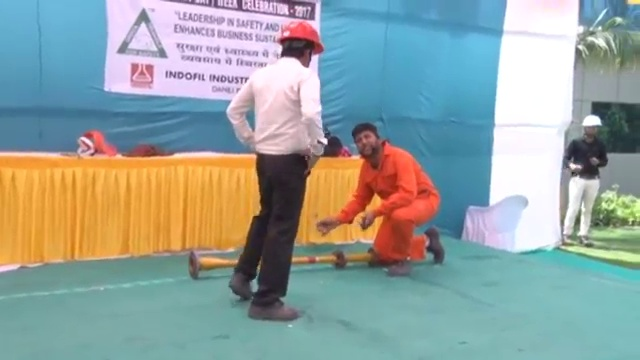helmet: (276, 19, 327, 55), (580, 114, 602, 127)
helmet_off: (350, 121, 381, 158)
helmet_on: (273, 17, 325, 69), (576, 112, 605, 140)
person: (225, 18, 330, 324), (316, 123, 446, 275), (564, 113, 611, 246)
